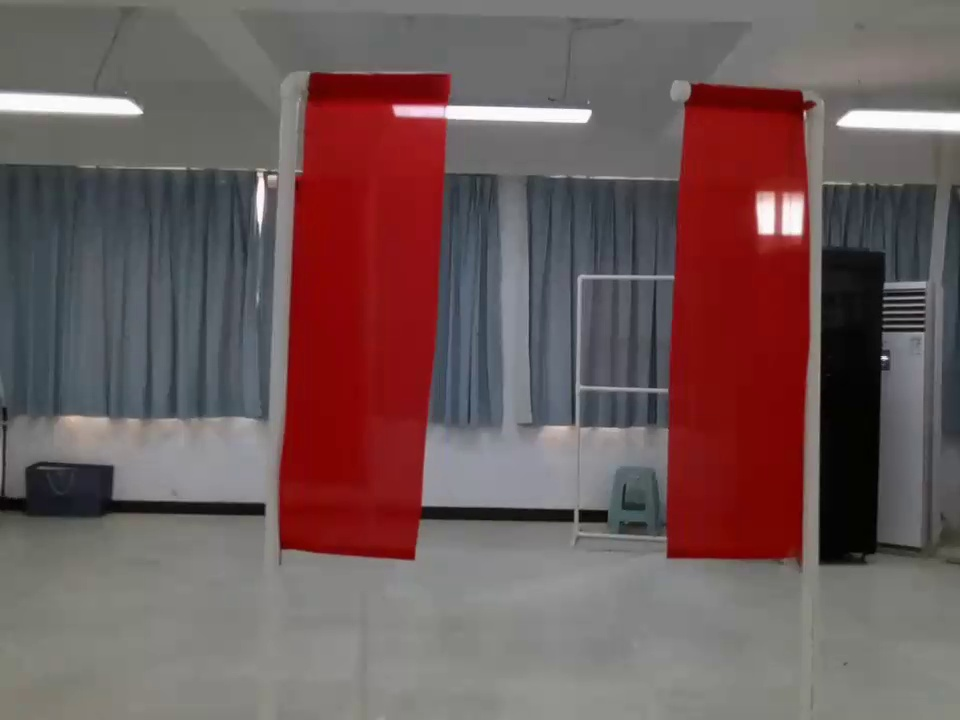qi: (646, 67, 825, 578), (267, 69, 448, 570)
